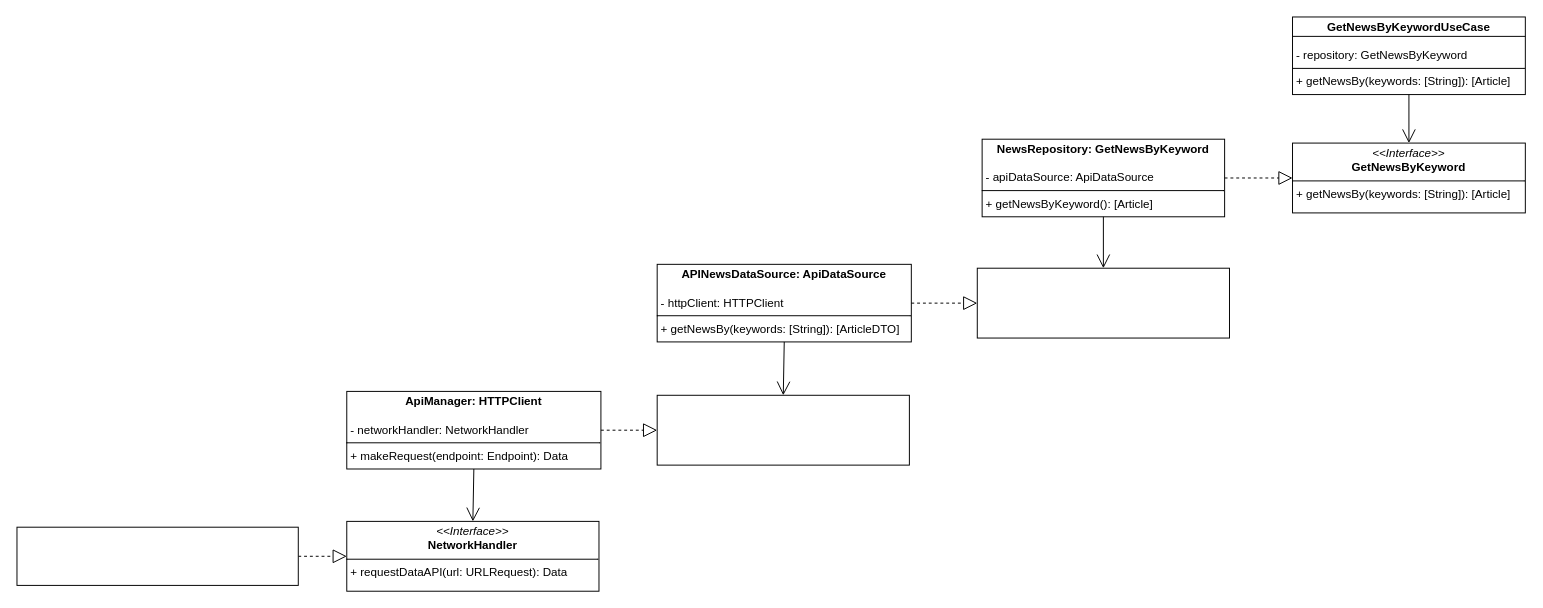
Image size: 1543x608. Some labels were removed from this diagram. The centre of each missing label's shape, as x and y in pixels:
<<Interface>> ApiDataSource + getNewsBy(keywords: [String]): [ArticleDTO]: (1102,302)
<<Interface>> HTTPClient + makeRequest(endpoint: Endpoint): Data: (782,429)
URLSessionNetworkHandler: NetworkHandler + requestDataAPI(url: URLRequest): Data: (157,555)
